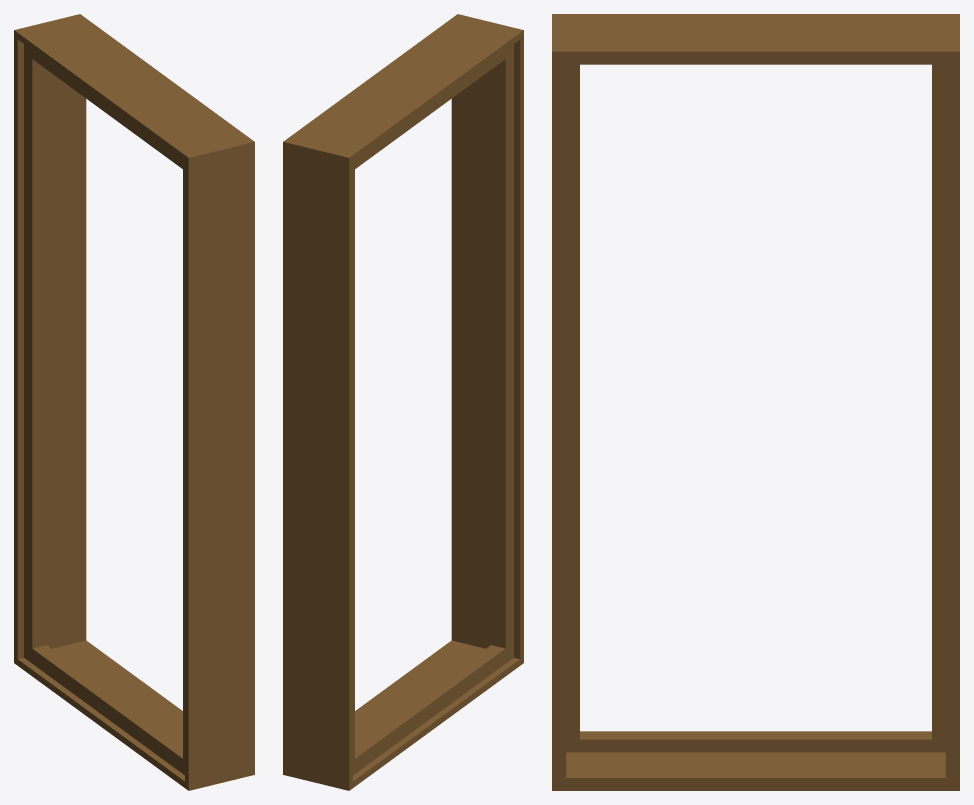
File: 26R4GGj8v8EAchpBZVtQux.dae
3 renders of one model, left to right at view 1: azimuth 30°, elevation 25°; view 2: azimuth 150°, elevation 25°; view 3: azimuth 270°, elevation 25°, orthographic. The views are drawn at different scales.
Visible parts, largest first — view 1: product-866c4410-b48e-4838-a9ab-ccb8dfddae3b-body; view 2: product-866c4410-b48e-4838-a9ab-ccb8dfddae3b-body; view 3: product-866c4410-b48e-4838-a9ab-ccb8dfddae3b-body.
Part boxes in pixels (bbox=[...]): product-866c4410-b48e-4838-a9ab-ccb8dfddae3b-body: bbox=[14, 14, 254, 790]; product-866c4410-b48e-4838-a9ab-ccb8dfddae3b-body: bbox=[283, 14, 523, 790]; product-866c4410-b48e-4838-a9ab-ccb8dfddae3b-body: bbox=[552, 14, 959, 790].
Size of the model in its own units: 0.2 by 0.915 by 1.83.
